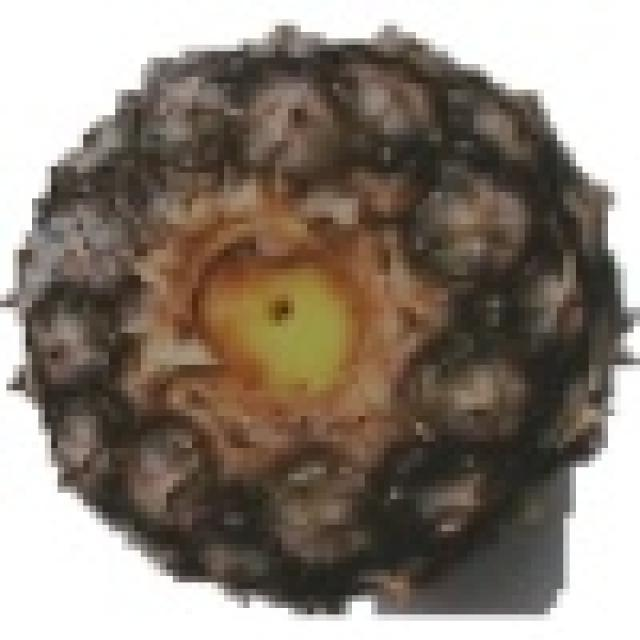pineapple: (13, 19, 608, 602)
